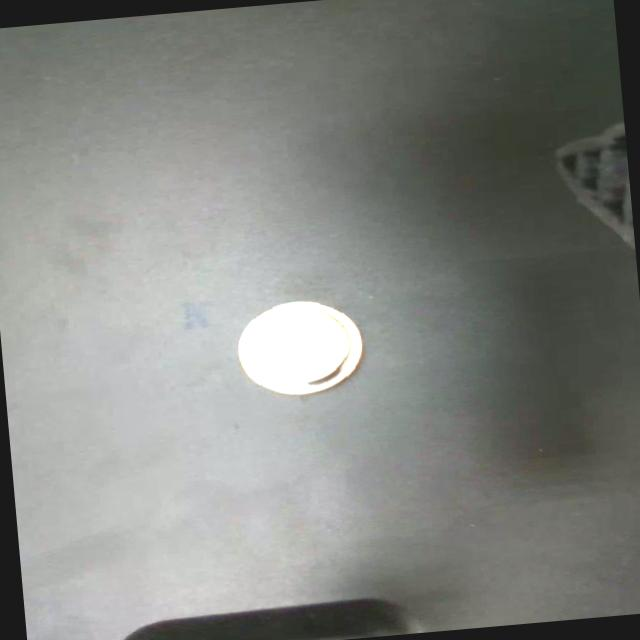sensor: (230, 293, 368, 401)
